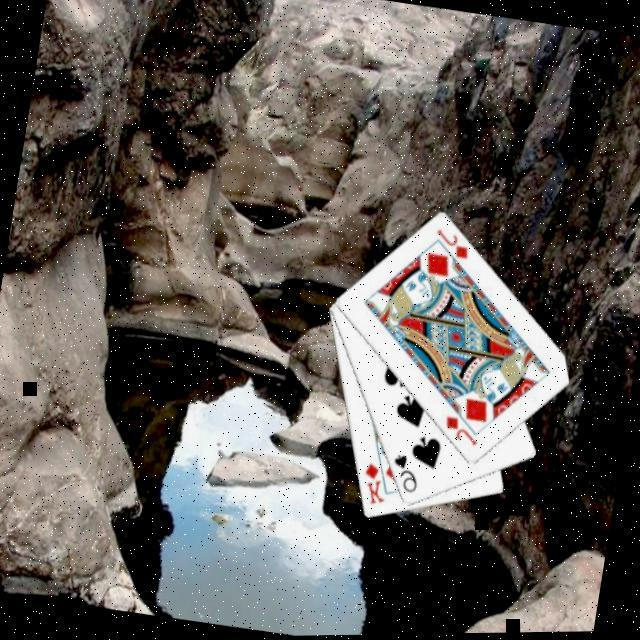9S: (388, 451, 426, 497)
JD: (441, 413, 487, 452), (432, 225, 478, 264)
KD: (358, 459, 395, 510)
